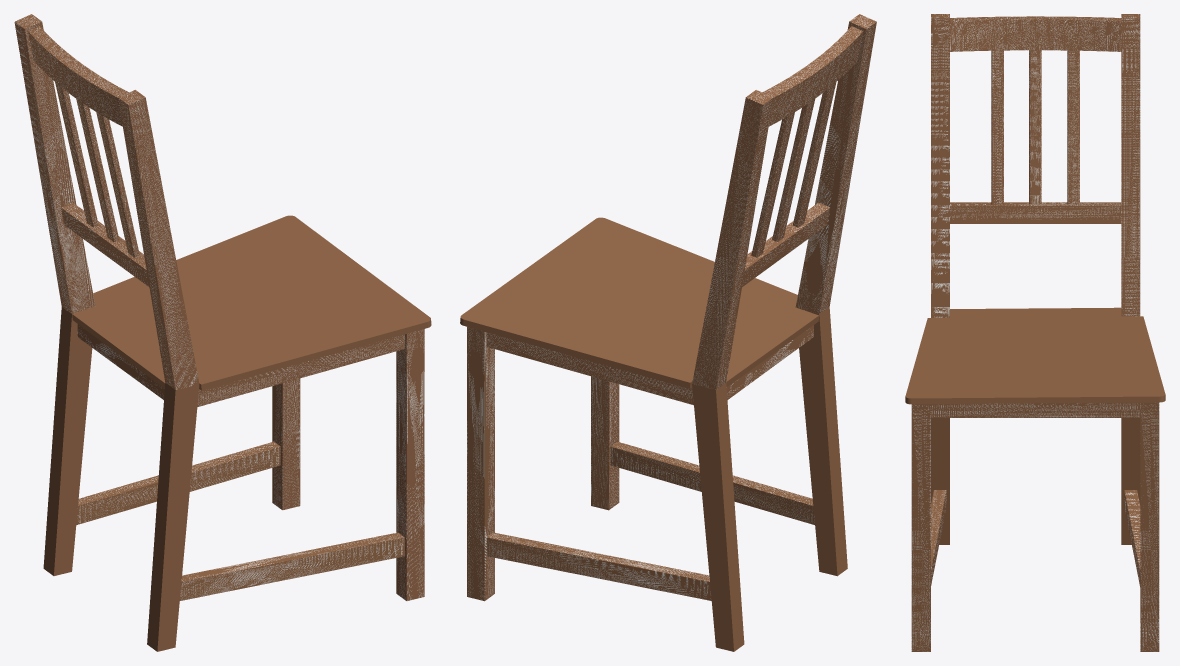
The model's file is small chair.dae.
3 renders of one model, left to right at view 1: azimuth 30°, elevation 25°; view 2: azimuth 150°, elevation 25°; view 3: azimuth 270°, elevation 25°, orthographic. The views are drawn at different scales.
Parts seen in each view (by area): view 1: group_0, Component10_1 (×2), Component9 (×2), group_4, group_7, group_6, Component2_2, group_5, group_8, Component3_2, group_3, group_1 (+2 smaller); view 2: group_0, Component10_1 (×2), Component9 (×2), group_5, group_6, group_7, Component2_2, group_4, group_9, Component3_2, group_1, group_3 (+2 smaller); view 3: group_0, Component10_1 (×2), Component2_2, group_5, group_4, Component3_2, Component9 (×2), group_11, group_1, group_3, group_2, group_6 (+1 smaller).
Boxes of the visible parts, left/top/right/bottom form: group_0: left=72, top=215, right=431, bottom=390; Component10_1 (×2): left=14, top=14, right=199, bottom=389; Component9 (×2): left=43, top=307, right=199, bottom=651; group_4: left=396, top=329, right=424, bottom=600; group_7: left=180, top=532, right=404, bottom=600; group_6: left=76, top=441, right=280, bottom=524; Component2_2: left=28, top=26, right=128, bottom=126; group_5: left=272, top=378, right=300, bottom=510; group_8: left=197, top=334, right=404, bottom=406; Component3_2: left=61, top=202, right=149, bottom=287; group_3: left=96, top=112, right=139, bottom=257; group_1: left=55, top=82, right=98, bottom=227; group_0: left=460, top=217, right=819, bottom=388; Component10_1 (×2): left=692, top=14, right=876, bottom=389; Component9 (×2): left=692, top=307, right=847, bottom=651; group_5: left=467, top=327, right=494, bottom=601; group_6: left=486, top=532, right=711, bottom=600; group_7: left=610, top=441, right=814, bottom=524; Component2_2: left=762, top=26, right=863, bottom=126; group_4: left=591, top=376, right=619, bottom=510; group_9: left=486, top=332, right=693, bottom=405; Component3_2: left=742, top=202, right=830, bottom=286; group_1: left=751, top=112, right=794, bottom=257; group_3: left=793, top=82, right=836, bottom=227; group_0: left=905, top=307, right=1165, bottom=404; Component10_1 (×2): left=931, top=14, right=1140, bottom=317; Component2_2: left=950, top=16, right=1121, bottom=51; group_5: left=1140, top=402, right=1159, bottom=651; group_4: left=911, top=404, right=930, bottom=651; Component3_2: left=950, top=202, right=1121, bottom=223; Component9 (×2): left=931, top=418, right=1140, bottom=544; group_11: left=931, top=402, right=1140, bottom=417; group_1: left=1067, top=50, right=1079, bottom=204; group_3: left=991, top=50, right=1003, bottom=204; group_2: left=1029, top=50, right=1041, bottom=204; group_6: left=1124, top=490, right=1140, bottom=586.
Size of the model in its own units: 19.41 by 16.14 by 35.11.
Materials: 2 (2 with a texture image).
